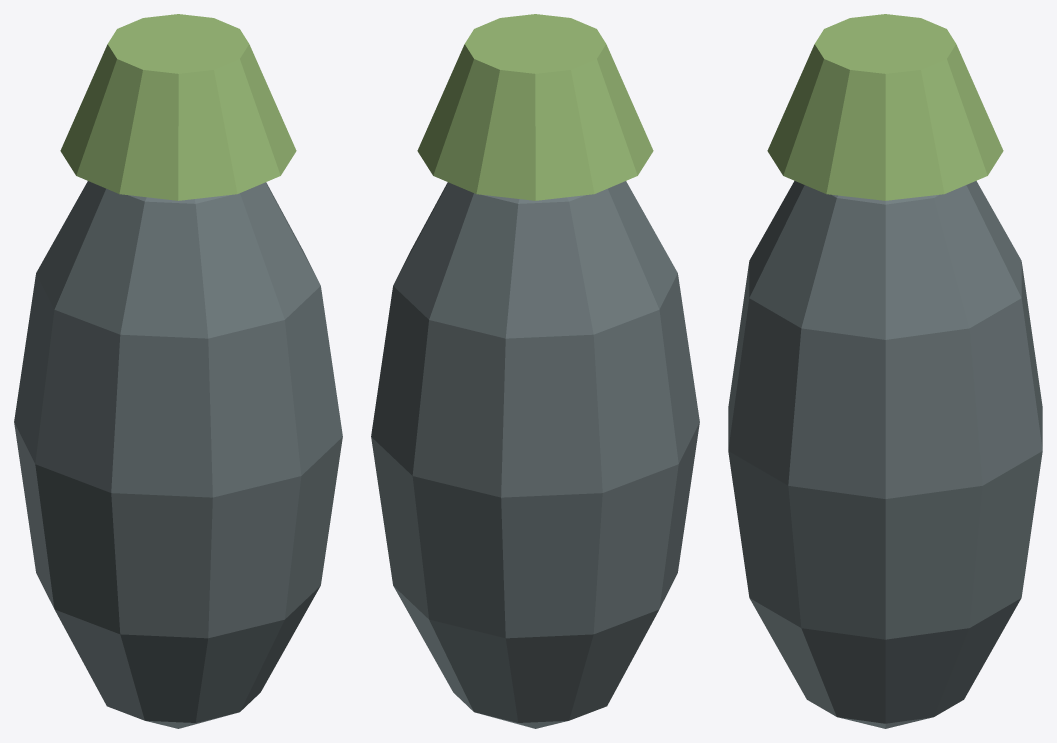
Rendered from supermarket-operations-aubergine-365adcaa__26923.glb.
The picture shows the model from 3 angles, left to right: view 1: azimuth 30°, elevation 25°; view 2: azimuth 150°, elevation 25°; view 3: azimuth 270°, elevation 25°; orthographic projection.
Visible parts, largest first — view 1: aubergine; view 2: aubergine; view 3: aubergine.
Boxes of the visible parts, x1,y1,x2,y2 form: aubergine: (14,14,342,728); aubergine: (371,14,699,728); aubergine: (728,14,1042,728).
Bounding box in the file's own units: 0.07 × 0.16 × 0.0666.
